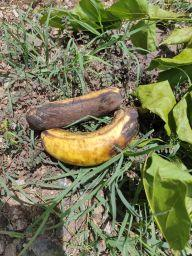banana: (40, 101, 140, 168), (24, 84, 126, 134)
